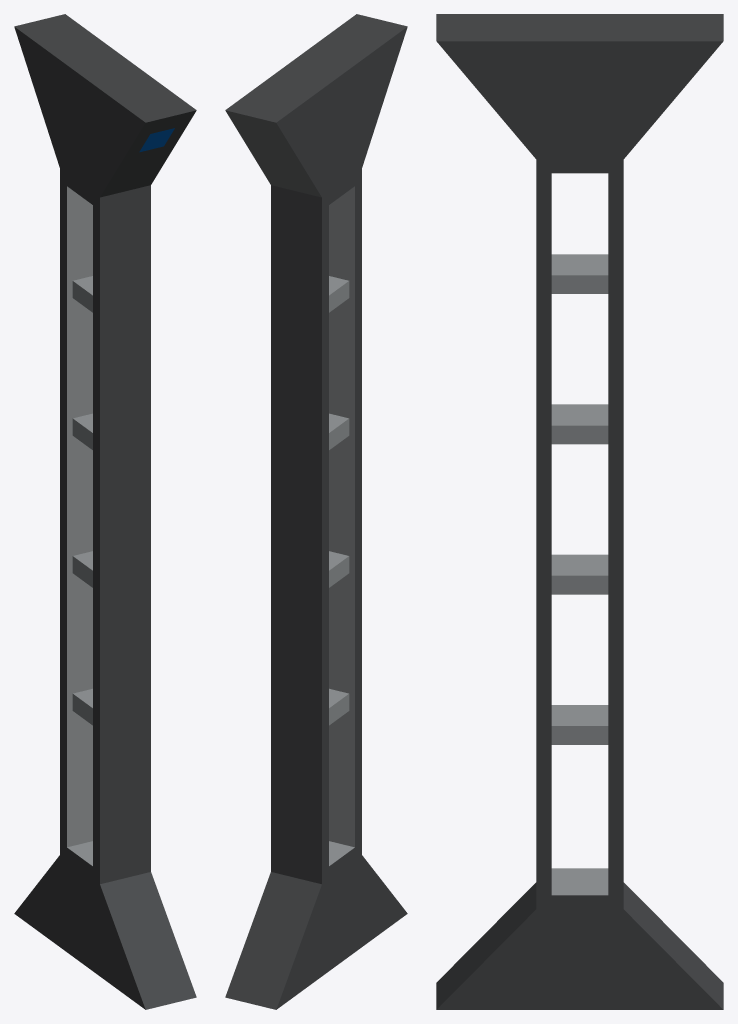
The model's file is Column_006.fbx.
3 renders of one model, left to right at view 1: azimuth 30°, elevation 25°; view 2: azimuth 150°, elevation 25°; view 3: azimuth 270°, elevation 25°, orthographic. The views are drawn at different scales.
Visible parts, largest first — view 1: Column_006; view 2: Column_006; view 3: Column_006.
Part boxes in pixels (box(x1,y1,x2,y2)): Column_006: box(14, 14, 196, 1009); Column_006: box(225, 14, 407, 1009); Column_006: box(436, 14, 723, 1009).
Bounding box in the file's own units: 23.21 × 103 × 385.
